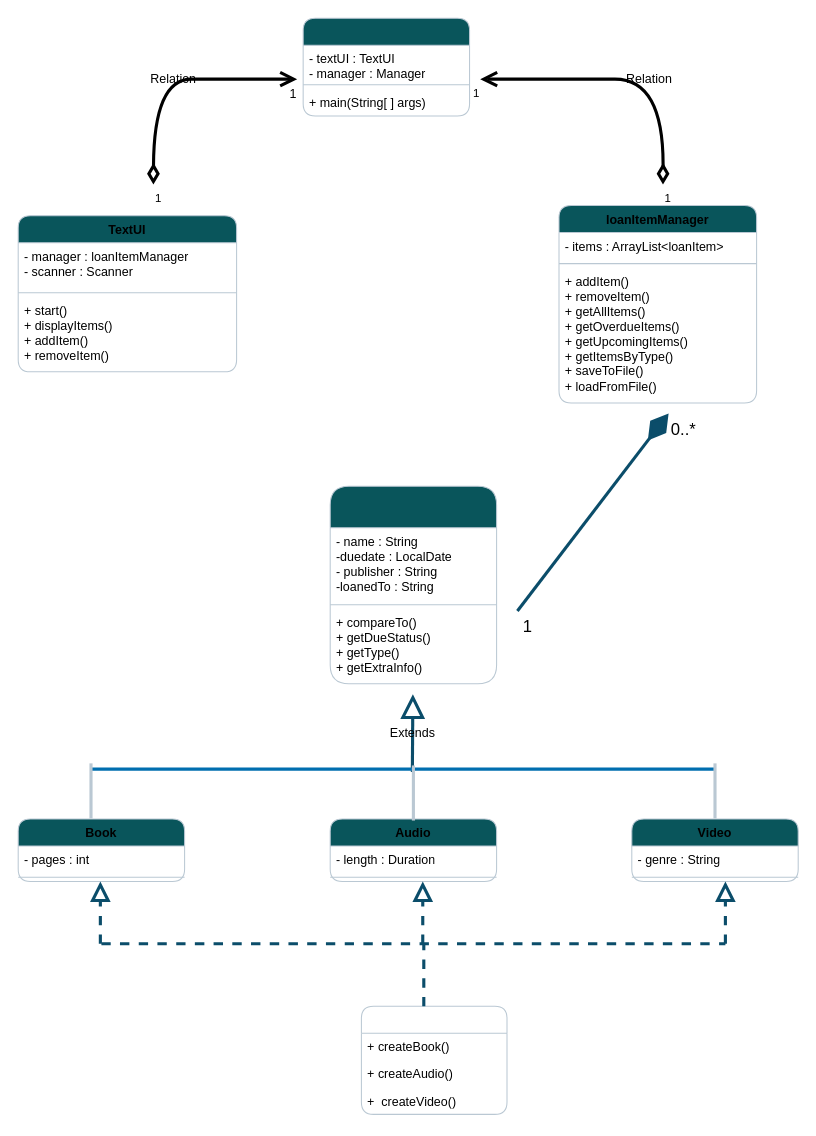
Some shapes in this 816 by 1136 pixel diagram are drawn without their labels. Here are the shapes that lost their labels. From the top down, the box of each, then its label:
(302, 17, 470, 116): LoanItemsTracker
(329, 485, 497, 684): loanItem {abstract}
(360, 1005, 507, 1114): loanItemFactory
